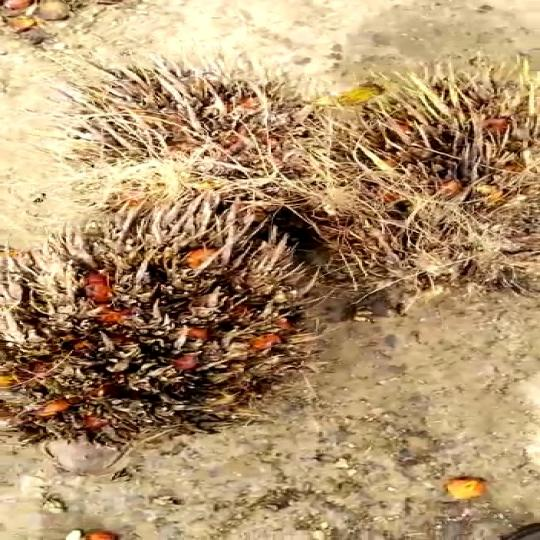terlalu masak: (0, 196, 330, 435), (294, 57, 540, 282), (73, 62, 334, 182)
